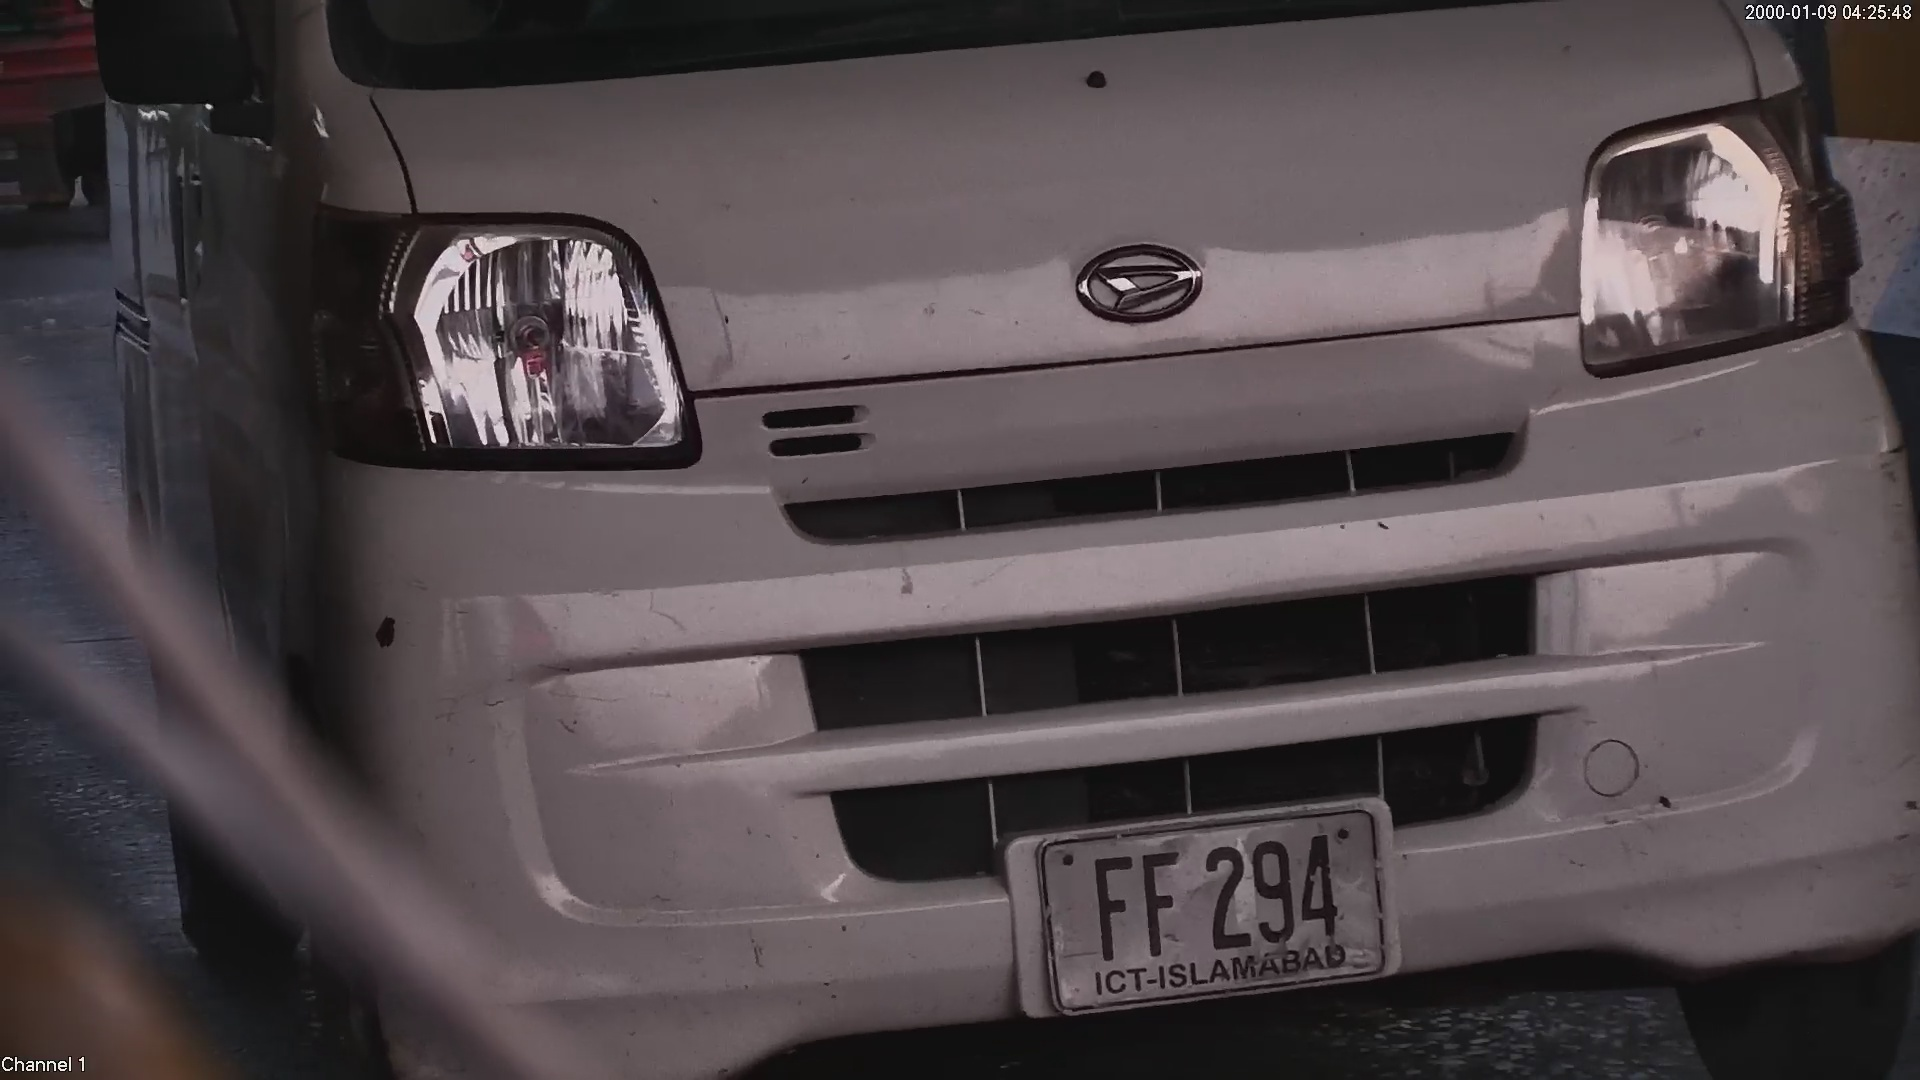Number_Plate: (1017, 799, 1404, 1020)
Undefined: (321, 209, 684, 462), (1576, 114, 1850, 340), (1078, 244, 1210, 327)
